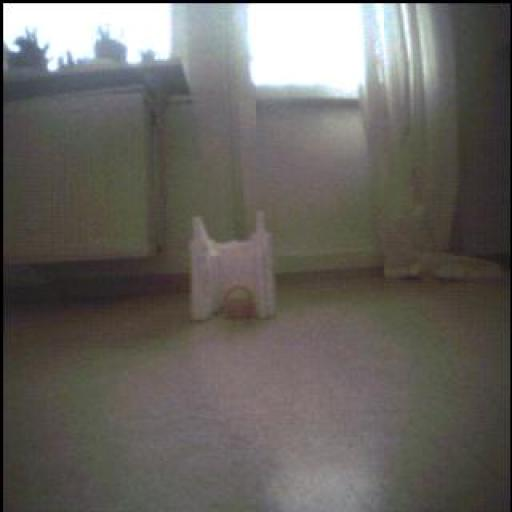Basket: (224, 287, 258, 324)
